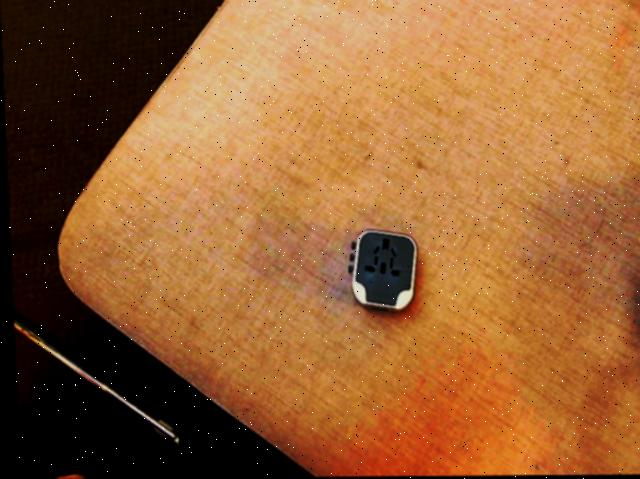adapter: (343, 230, 416, 312)
